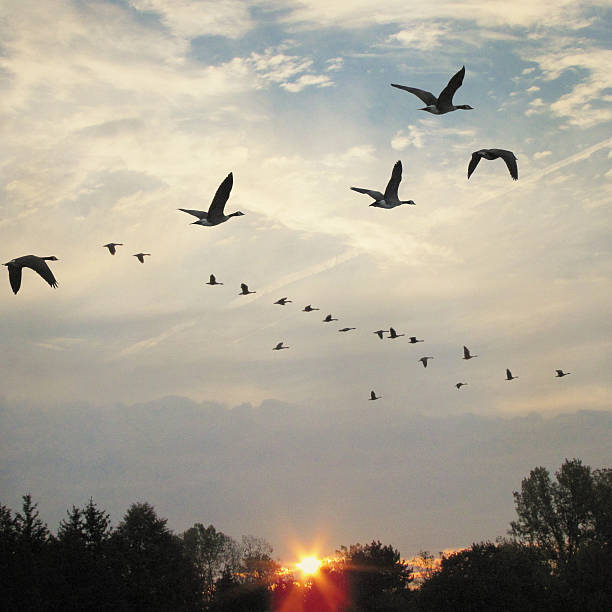goose: (386, 62, 476, 121), (175, 168, 247, 232), (347, 156, 418, 214), (1, 253, 61, 298), (463, 146, 519, 183), (101, 241, 125, 257), (502, 364, 519, 383), (416, 354, 435, 371), (202, 272, 223, 287), (270, 294, 292, 308), (234, 282, 255, 296), (459, 344, 476, 361), (130, 251, 152, 264), (270, 339, 290, 352), (385, 326, 405, 339), (553, 366, 570, 379), (366, 389, 383, 402), (320, 312, 338, 324), (300, 303, 320, 313), (407, 335, 425, 344), (452, 380, 470, 389), (372, 328, 387, 338), (339, 325, 357, 332)
